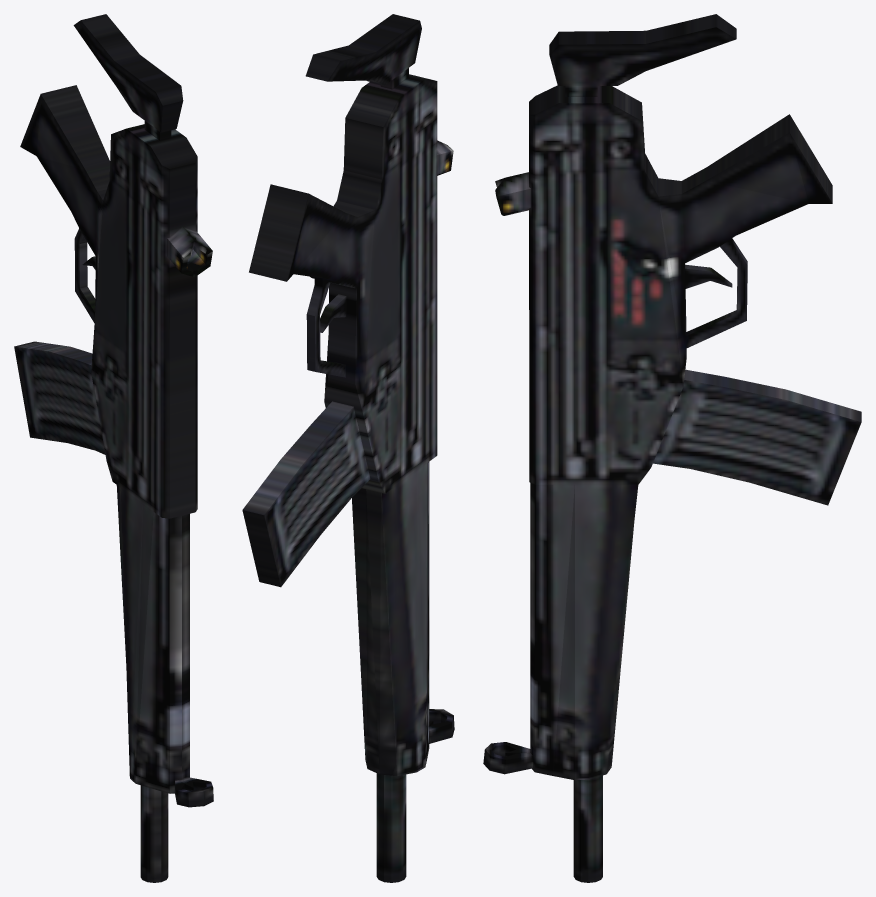
Rendered from hk53Submachinegun_wtf.obj.
The picture shows the model from 3 angles, left to right: view 1: azimuth 30°, elevation 25°; view 2: azimuth 150°, elevation 25°; view 3: azimuth 270°, elevation 25°; orthographic projection. The views are drawn at different scales.
Parts seen in each view (by area): view 1: group1; view 2: group1; view 3: group1.
Part boxes in pixels (box(x1,y1,x2,y2)): group1: box(14, 14, 213, 882); group1: box(242, 14, 454, 882); group1: box(483, 14, 861, 882).
Bounding box in the file's own units: 43.12 × 660 × 264.
